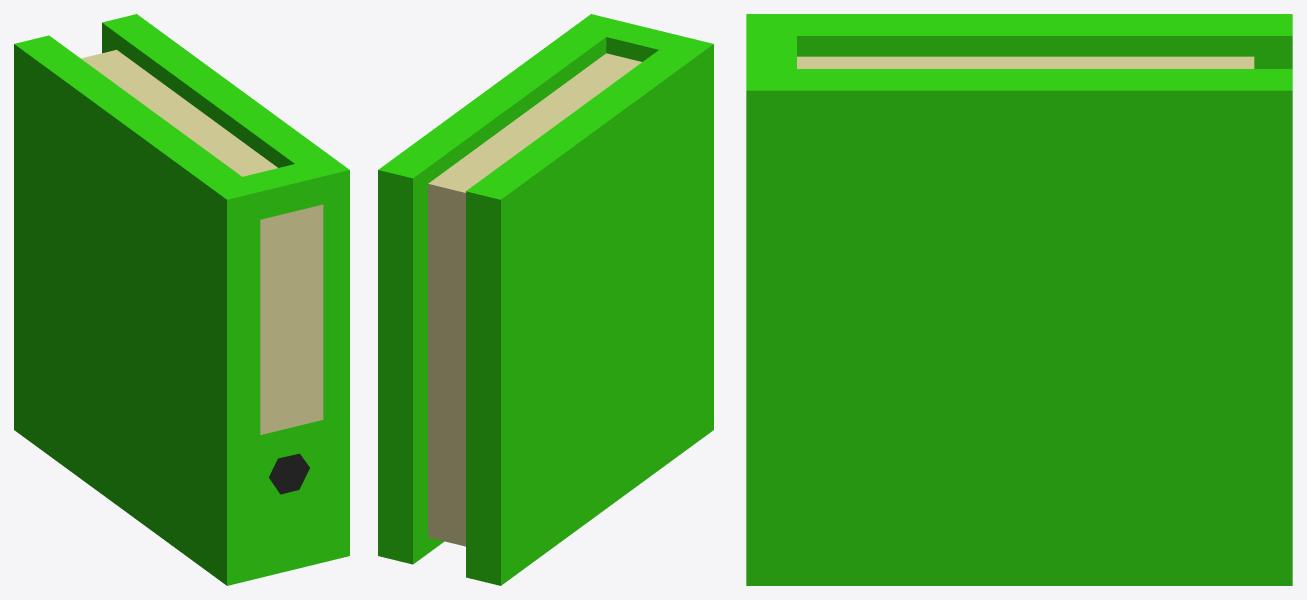
Rendered from GreenCarpet.fbx.
3 renders of one model, left to right at view 1: azimuth 30°, elevation 25°; view 2: azimuth 150°, elevation 25°; view 3: azimuth 270°, elevation 25°, orthographic. The views are drawn at different scales.
Parts seen in each view (by area): view 1: Cube.205; view 2: Cube.205; view 3: Cube.205.
Part boxes in pixels (<box>): Cube.205: <box>14,14,349,585</box>; Cube.205: <box>378,14,713,585</box>; Cube.205: <box>746,14,1292,585</box>.
Bounding box in the file's own units: 66.51 × 200 × 201.
